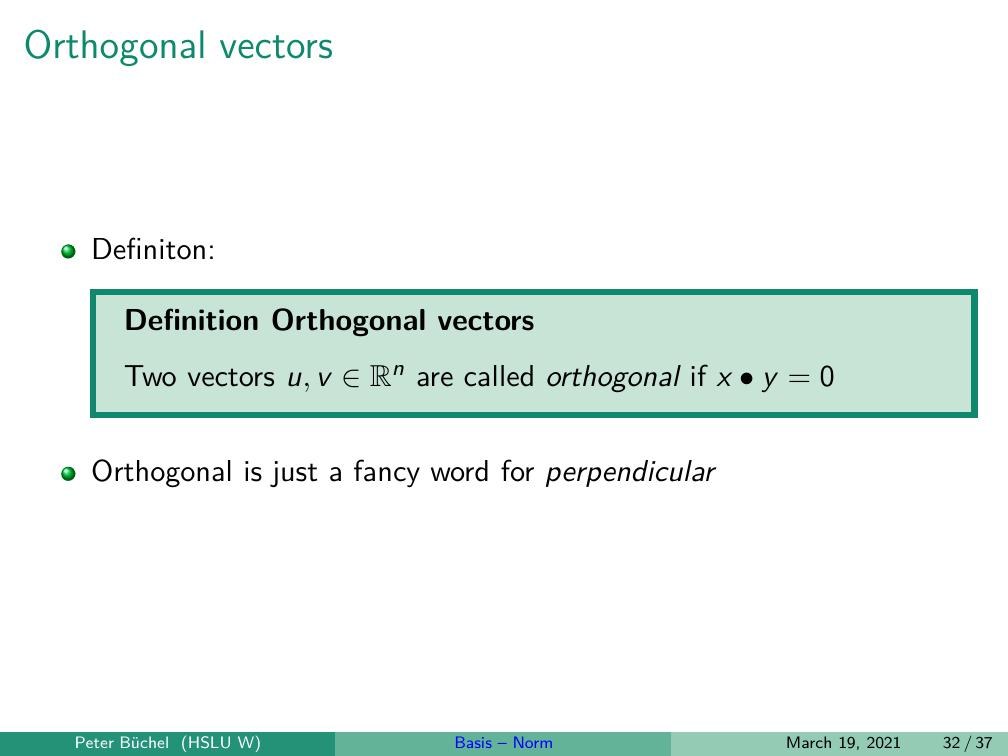Title: (20, 15, 349, 76)
